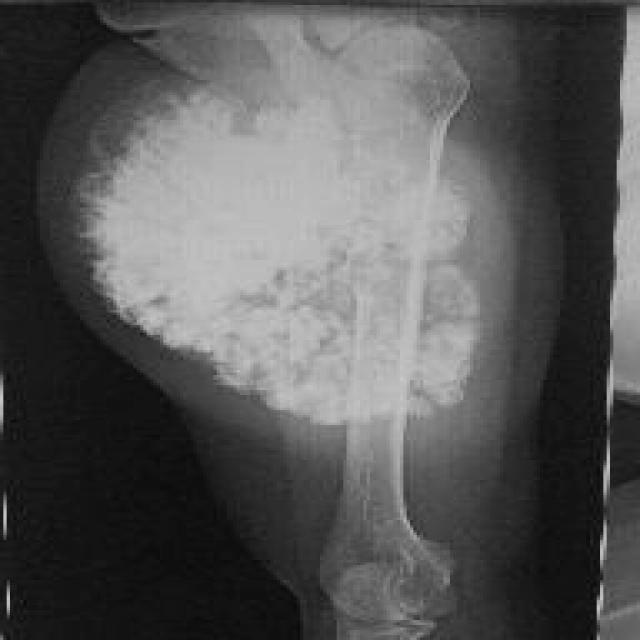bone-cancer: (76, 82, 478, 422)
